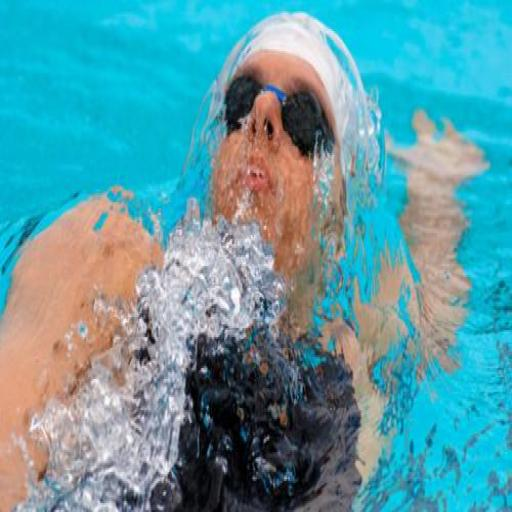swimming: (0, 9, 489, 510)
